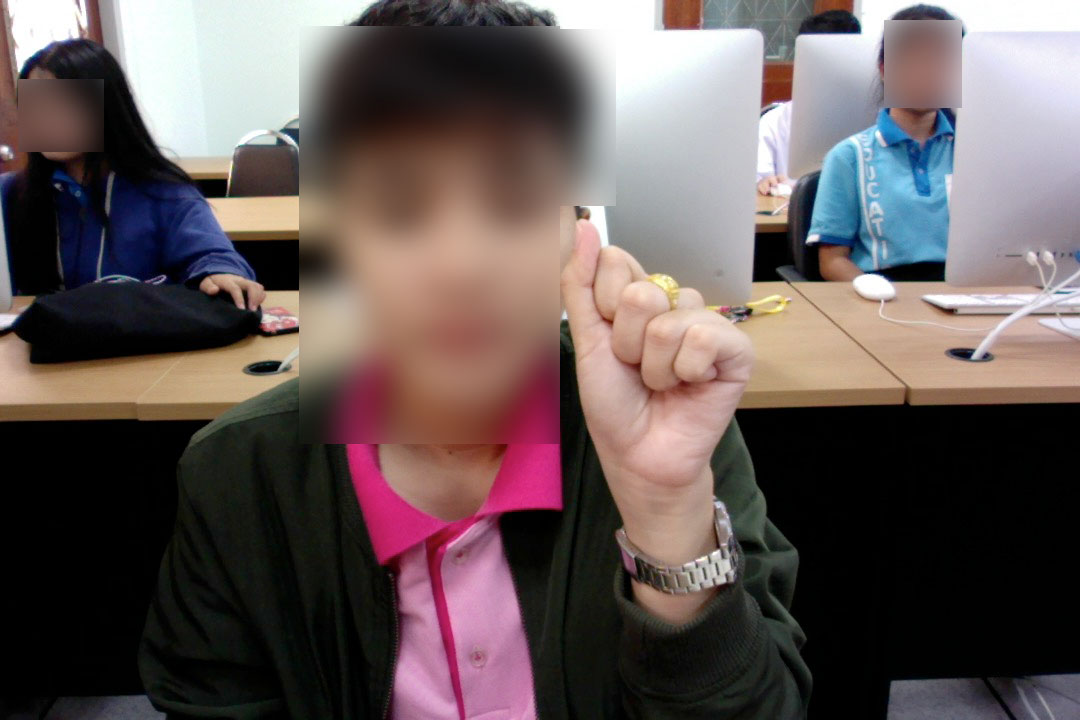or: (554, 200, 763, 500)
